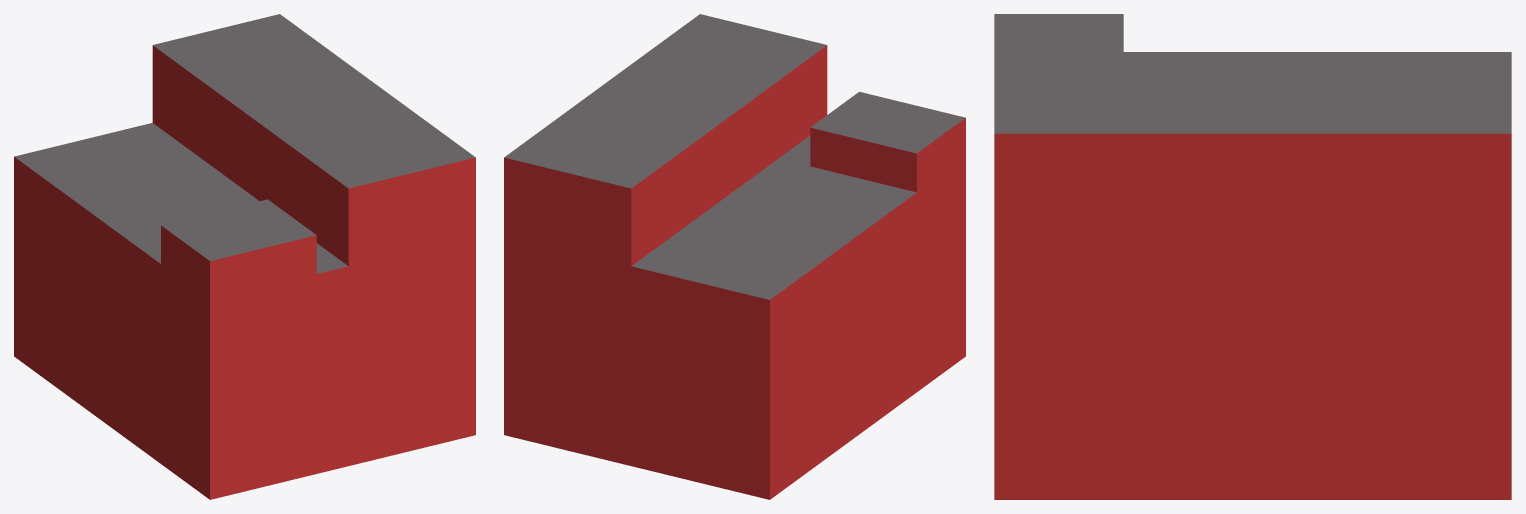
File: Building1.fbx
The picture shows the model from 3 angles, left to right: view 1: azimuth 30°, elevation 25°; view 2: azimuth 150°, elevation 25°; view 3: azimuth 270°, elevation 25°; orthographic projection. The views are drawn at different scales.
Parts seen in each view (by area): view 1: Building1; view 2: Building1; view 3: Building1.
Part boxes in pixels (<box>): Building1: <box>14,14,475,499</box>; Building1: <box>504,14,965,499</box>; Building1: <box>994,14,1511,499</box>.
Size of the model in its own units: 1253 by 1250 by 1600.
